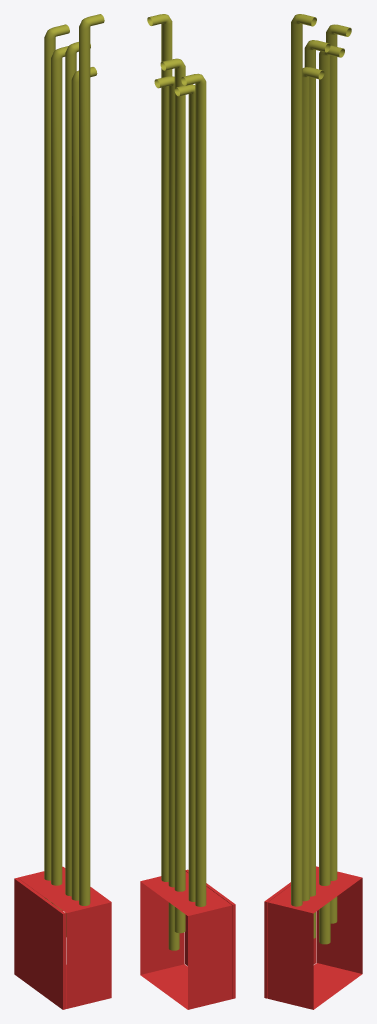
File: GearAndPipes (Straight) (V2).FBX
3 views of the same model, side by side, from view 1: azimuth 30°, elevation 25°; view 2: azimuth 210°, elevation 25°; view 3: azimuth 330°, elevation 25° (orthographic). The views are drawn at different scales.
Visible parts, largest first — view 1: GearAndPipes (Straight)_007; view 2: GearAndPipes (Straight)_007; view 3: GearAndPipes (Straight)_007.
Boxes of the visible parts, <box> form: GearAndPipes (Straight)_007: <box>14,14,111,1009</box>; GearAndPipes (Straight)_007: <box>140,14,235,1009</box>; GearAndPipes (Straight)_007: <box>264,14,362,1009</box>.
Bounding box in the file's own units: 46.71 × 895 × 80.55.
